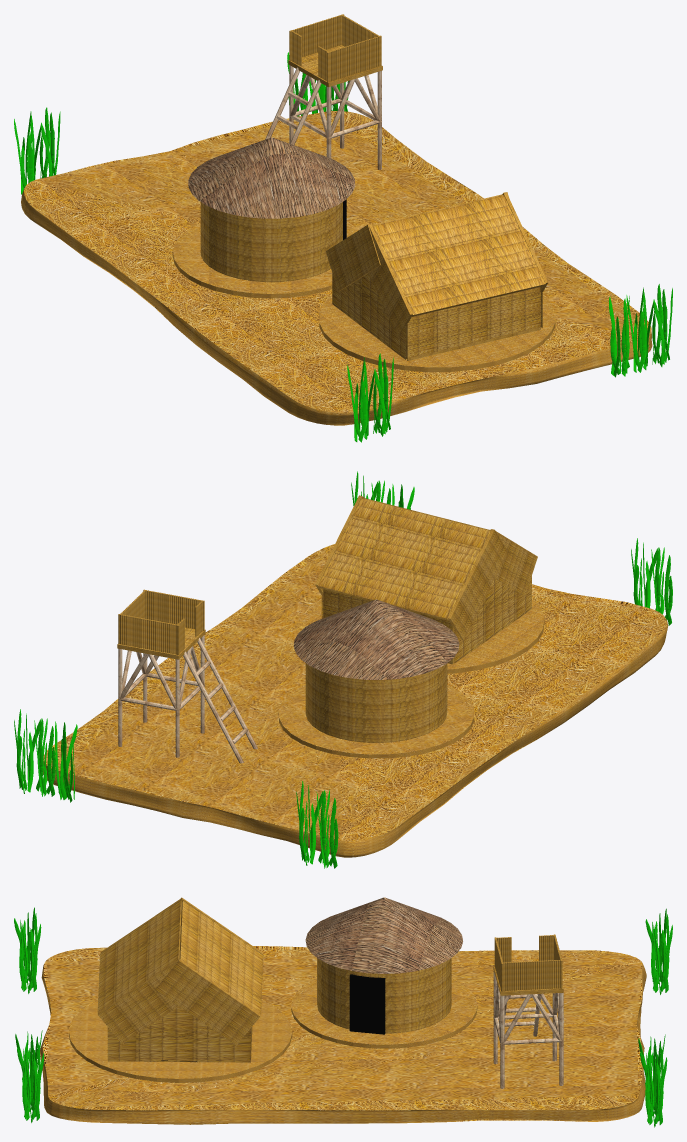
The model's file is islaFrenteIzq.glb.
The picture shows the model from 3 angles, top to bottom: view 1: azimuth 30°, elevation 25°; view 2: azimuth 150°, elevation 25°; view 3: azimuth 270°, elevation 25°; orthographic projection. The views are drawn at different scales.
Visible parts, largest first — view 1: Cube.001, Cylinder, Cylinder.017, Cylinder.008, Cone.002, Cone, Cone.006, Cone.007, Cone.001, Cone.008, Cone.009; view 2: Cube.001, Cylinder, Cylinder.017, Cylinder.008, Cone.004, Cone.008, Cone.005, Cone.003, Cone.009, Cone.007, Cone.006; view 3: Cube.001, Cylinder, Cylinder.017, Cylinder.008, Cone.002, Cone.006, Cone.003, Cone.009, Cone.007, Cone.001, Cone.004, Cone.008.
Boxes of the visible parts, left/top/right/bottom form: Cube.001: left=21, top=111, right=652, bottom=425; Cylinder: left=319, top=192, right=555, bottom=372; Cylinder.017: left=172, top=137, right=356, bottom=298; Cylinder.008: left=265, top=14, right=382, bottom=169; Cone.002: left=652, top=284, right=672, bottom=366; Cone: left=608, top=296, right=629, bottom=377; Cone.006: left=373, top=353, right=393, bottom=436; Cone.007: left=347, top=357, right=374, bottom=442; Cone.001: left=626, top=287, right=653, bottom=372; Cone.008: left=14, top=111, right=41, bottom=194; Cone.009: left=39, top=107, right=60, bottom=178; Cube.001: left=43, top=544, right=668, bottom=857; Cylinder: left=309, top=495, right=544, bottom=673; Cylinder.017: left=278, top=599, right=474, bottom=758; Cylinder.008: left=117, top=589, right=257, bottom=763; Cone.004: left=34, top=718, right=55, bottom=796; Cone.008: left=316, top=790, right=338, bottom=868; Cone.005: left=55, top=721, right=77, bottom=802; Cone.003: left=14, top=709, right=40, bottom=793; Cone.009: left=296, top=781, right=323, bottom=865; Cone.007: left=651, top=547, right=672, bottom=625; Cone.006: left=631, top=538, right=657, bottom=608; Cube.001: left=40, top=946, right=646, bottom=1124; Cylinder: left=69, top=897, right=292, bottom=1082; Cylinder.017: left=291, top=897, right=477, bottom=1048; Cylinder.008: left=493, top=934, right=563, bottom=1088; Cone.002: left=23, top=1049, right=44, bottom=1122; Cone.006: left=20, top=920, right=41, bottom=993; Cone.003: left=646, top=1053, right=667, bottom=1127; Cone.009: left=652, top=921, right=672, bottom=994; Cone.007: left=14, top=907, right=37, bottom=982; Cone.001: left=17, top=1036, right=40, bottom=1111; Cone.004: left=640, top=1041, right=663, bottom=1115; Cone.008: left=645, top=908, right=669, bottom=983.
Bounding box in the file's own units: 10.87 × 4.46 × 18.39.
20 materials, 8 textured.
